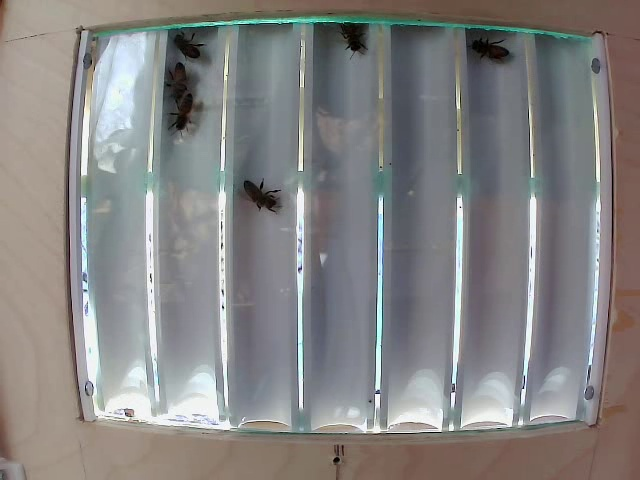bee: (237, 165, 283, 220), (333, 3, 364, 53), (471, 22, 505, 62), (161, 58, 191, 98), (167, 23, 199, 59), (172, 110, 200, 149)
